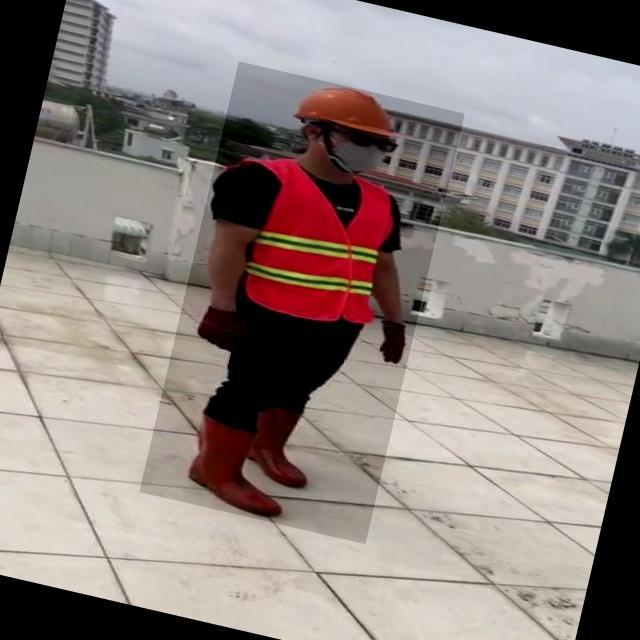Helmet: (290, 76, 405, 145)
Human: (139, 61, 465, 544)
Safety Boot: (179, 415, 297, 520), (242, 403, 323, 490)
Safety Vest: (235, 153, 407, 332)
